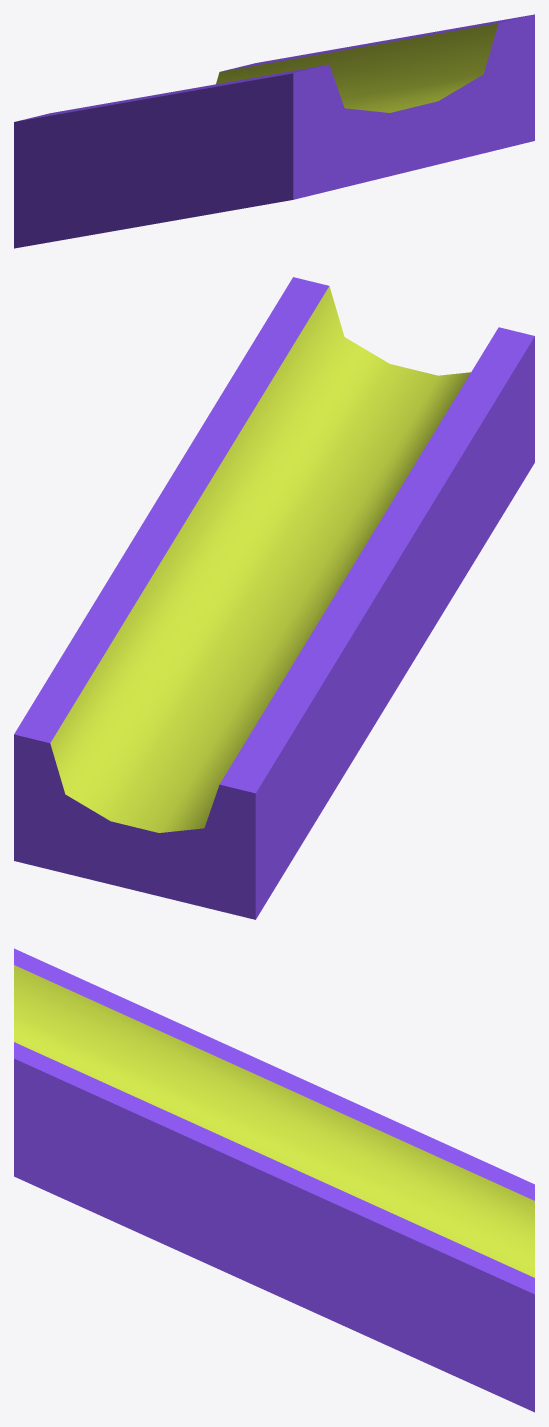
Rendered from slant_long_C.fbx.
3 views of the same model, one above another, from view 1: azimuth 30°, elevation 25°; view 2: azimuth 150°, elevation 25°; view 3: azimuth 270°, elevation 25° (orthographic). The views are drawn at different scales.
Parts seen in each view (by area): view 1: slant_long_C; view 2: slant_long_C; view 3: slant_long_C.
Boxes of the visible parts, x1=… form: slant_long_C: x1=14, y1=14, x2=534, y2=248; slant_long_C: x1=14, y1=277, x2=534, y2=919; slant_long_C: x1=14, y1=948, x2=534, y2=1412.
Size of the model in its own units: 10 by 15 by 20.
